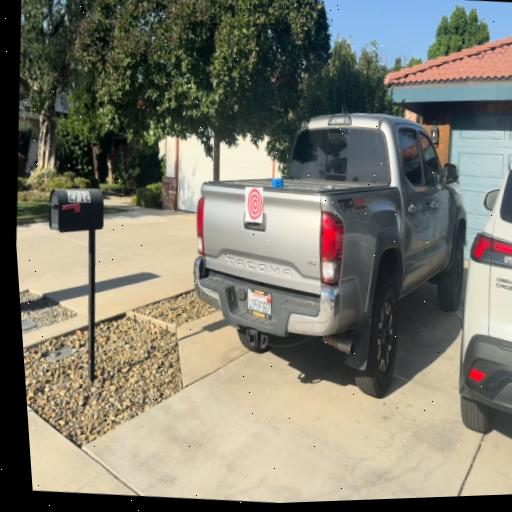bullseye: (245, 187, 263, 222)
